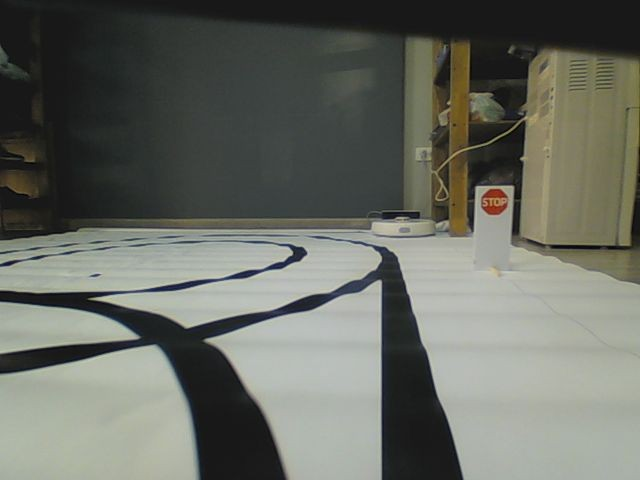Stop: (479, 187, 508, 217)
